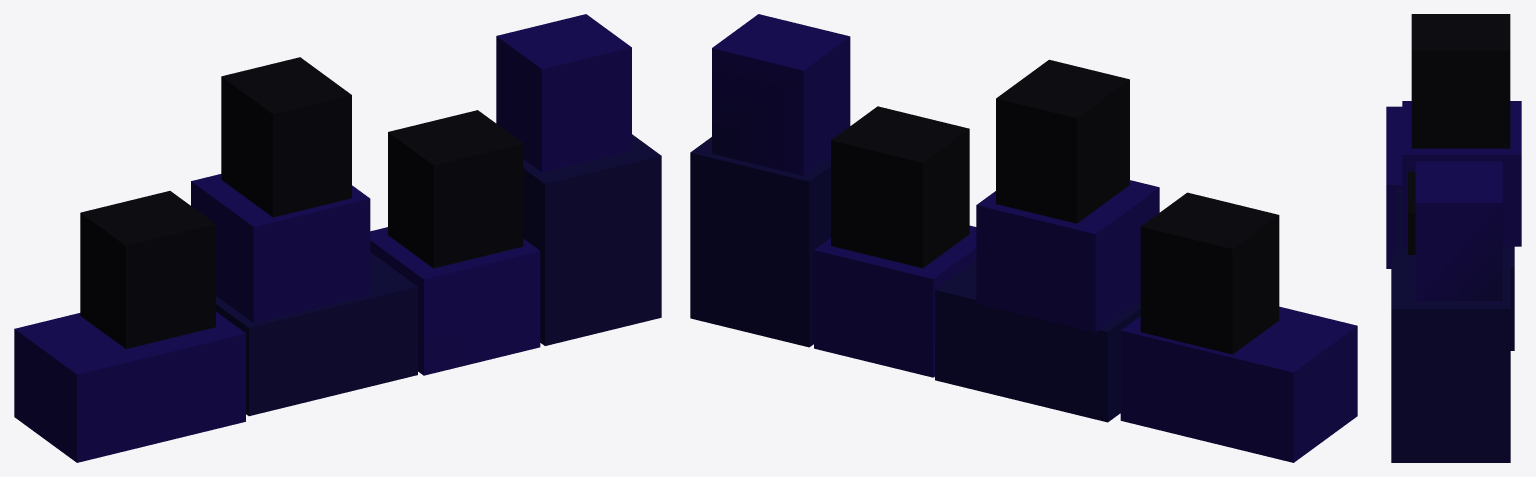
Rendered from SM_boxes02.FBX.
3 views of the same model, side by side, from view 1: azimuth 30°, elevation 25°; view 2: azimuth 150°, elevation 25°; view 3: azimuth 270°, elevation 25° (orthographic). The views are drawn at different scales.
Parts seen in each view (by area): view 1: boxes02; view 2: boxes02; view 3: boxes02.
Part boxes in pixels (x1,y1,x2,y2): boxes02: [14, 14, 661, 462]; boxes02: [690, 14, 1357, 462]; boxes02: [1386, 14, 1521, 462].
Bounding box in the file's own units: 124 × 58.26 × 26.1.
